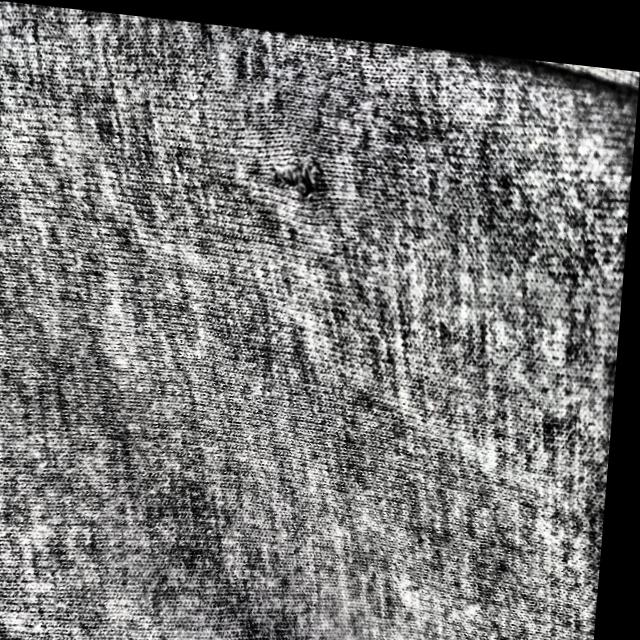Hole: (253, 137, 332, 216)
